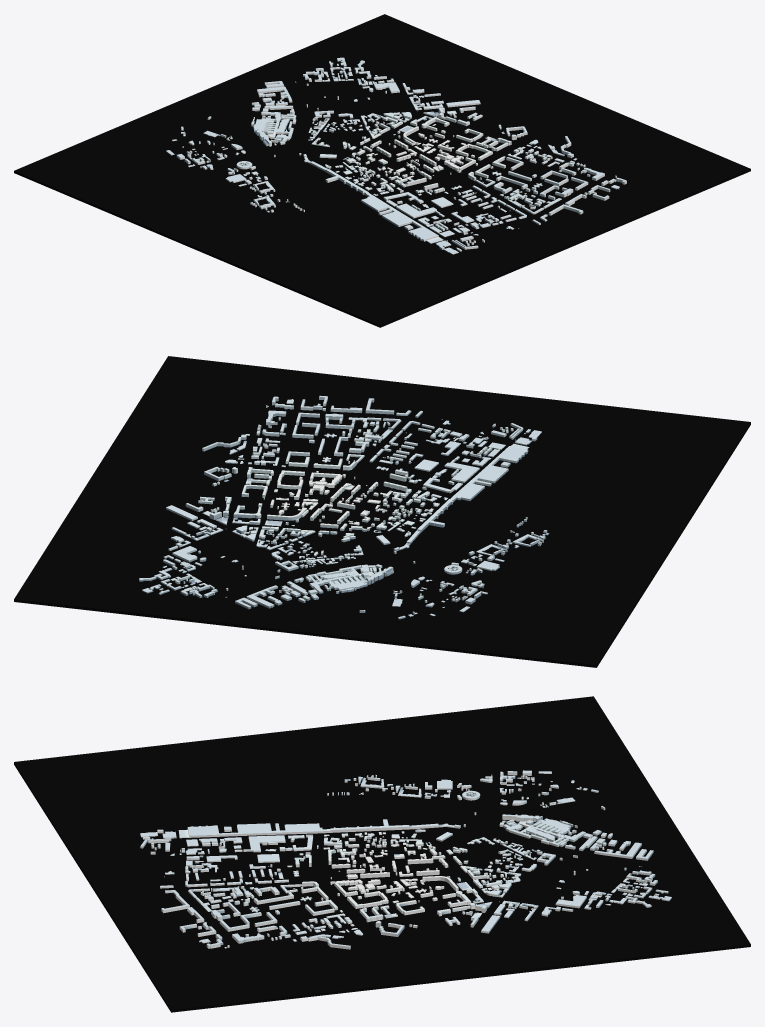
File: building.glb
3 views of the same model, one above another, from view 1: azimuth 30°, elevation 25°; view 2: azimuth 150°, elevation 25°; view 3: azimuth 270°, elevation 25° (orthographic). The views are drawn at different scales.
Parts seen in each view (by area): view 1: Cube, Bildings; view 2: Cube, Bildings; view 3: Cube, Bildings.
Part boxes in pixels (bbox=[...]): Cube: bbox=[14, 14, 750, 327]; Bildings: bbox=[166, 57, 626, 254]; Cube: bbox=[14, 356, 750, 667]; Bildings: bbox=[139, 395, 549, 619]; Cube: bbox=[14, 696, 750, 1012]; Bildings: bbox=[140, 770, 671, 949].
Bounding box in the file's own units: 63.2 × 0.6743 × 62.75.
2 materials, 1 textured.
